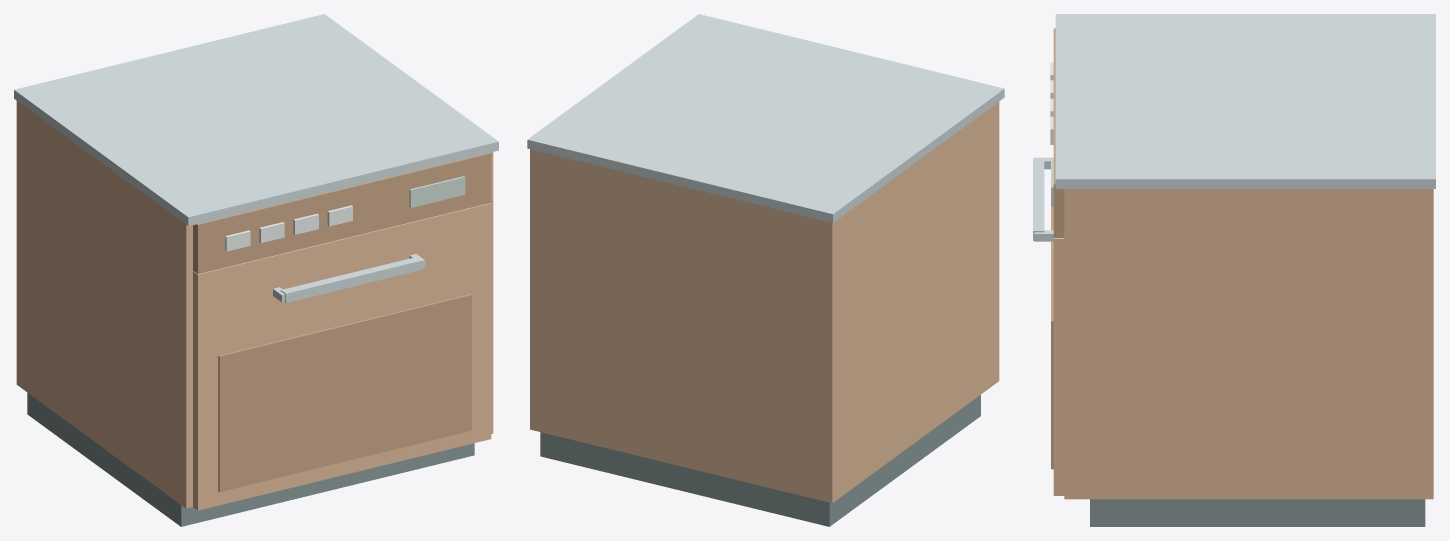
File: dishwasherPanel.glb
3 views of the same model, side by side, from view 1: azimuth 30°, elevation 25°; view 2: azimuth 150°, elevation 25°; view 3: azimuth 270°, elevation 25° (orthographic). The views are drawn at different scales.
Parts seen in each view (by area): view 1: dishwasherPanel, anim:door; view 2: dishwasherPanel; view 3: dishwasherPanel, anim:door.
Boxes of the visible parts, box(x1,y1,x2,y2) form: dishwasherPanel: box(14, 14, 498, 526); anim:door: box(193, 203, 491, 510); dishwasherPanel: box(527, 14, 1004, 526); dishwasherPanel: box(1050, 14, 1435, 526); anim:door: box(1033, 157, 1064, 495).
Bounding box in the file's own units: 0.455 × 0.4525 × 0.469.
